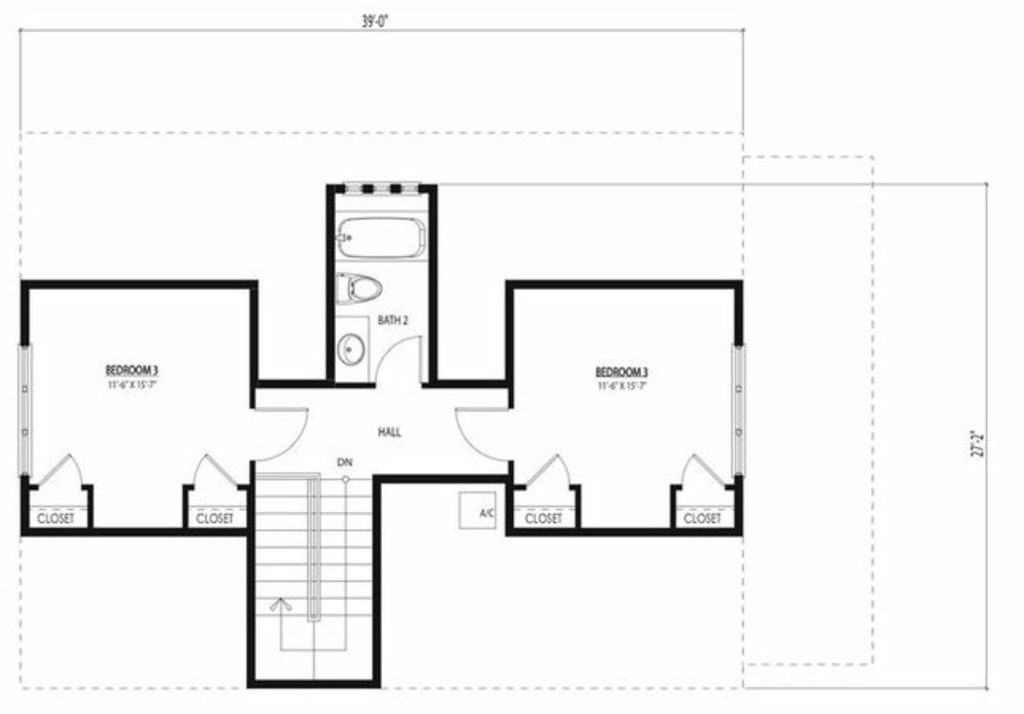door: (452, 403, 510, 465), (251, 402, 310, 461), (374, 333, 425, 389), (33, 452, 87, 490), (523, 452, 573, 493), (680, 452, 730, 493), (190, 453, 234, 492)
large_sink: (329, 270, 386, 311)
small_sink: (333, 313, 369, 383)
stairs: (252, 469, 379, 684)
tub: (331, 210, 433, 265)
windows: (729, 343, 749, 477), (19, 345, 33, 483), (340, 180, 422, 197)
